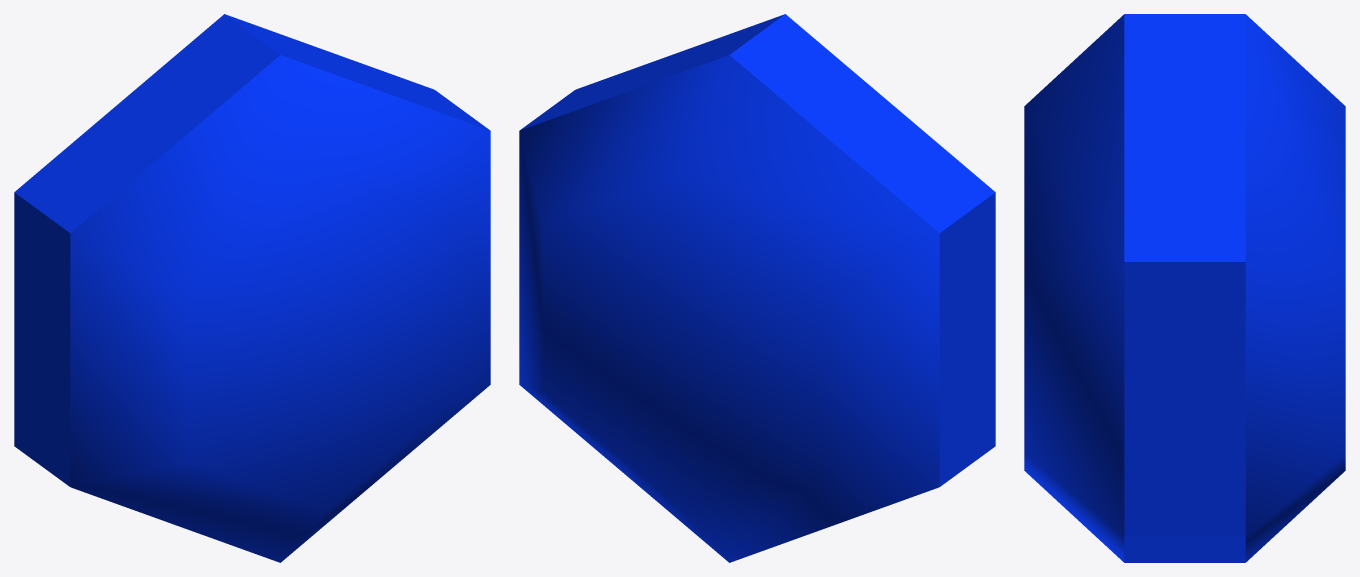
The model's file is HexGEM.gltf.
The picture shows the model from 3 angles, left to right: view 1: azimuth 30°, elevation 25°; view 2: azimuth 150°, elevation 25°; view 3: azimuth 270°, elevation 25°; orthographic projection. The views are drawn at different scales.
Parts seen in each view (by area): view 1: HexagonGem; view 2: HexagonGem; view 3: HexagonGem.
Part boxes in pixels (<box>): HexagonGem: <box>14,14,490,562</box>; HexagonGem: <box>519,14,995,562</box>; HexagonGem: <box>1024,14,1345,562</box>.
Bounding box in the file's own units: 80.52 × 92.97 × 49.34.
1 material, 1 textured.
